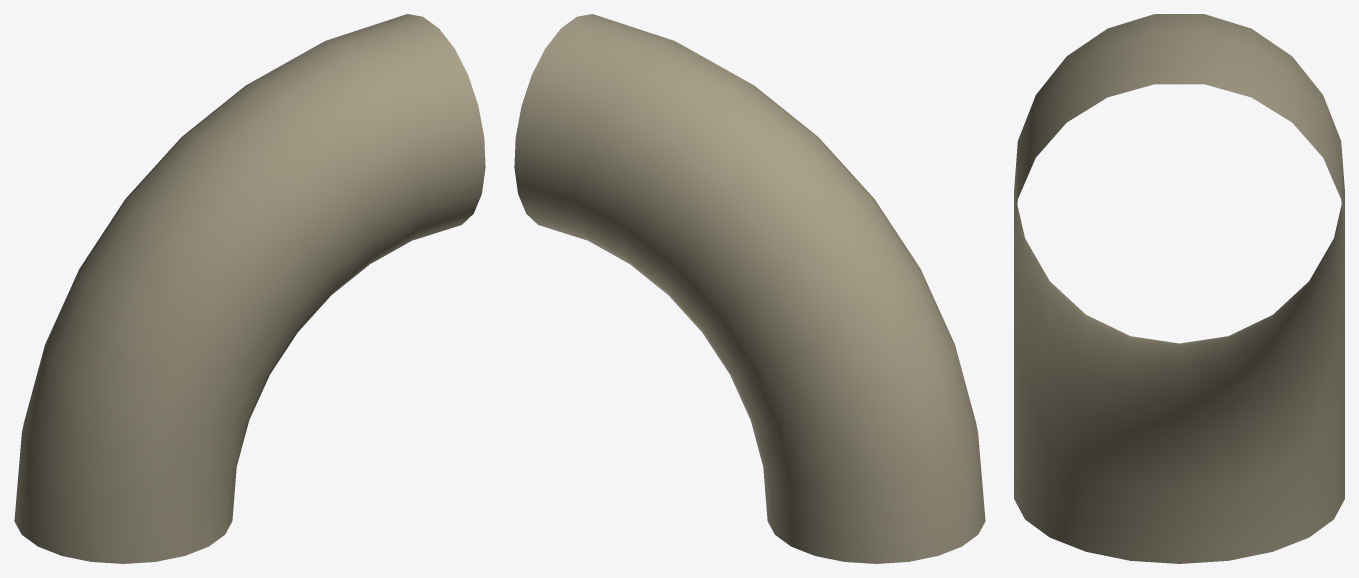
File: SM_ventilation_props_25.glb
3 views of the same model, side by side, from view 1: azimuth 30°, elevation 25°; view 2: azimuth 150°, elevation 25°; view 3: azimuth 270°, elevation 25° (orthographic). The views are drawn at different scales.
Parts seen in each view (by area): view 1: SM_ventilation_props_25; view 2: SM_ventilation_props_25; view 3: SM_ventilation_props_25.
Part boxes in pixels (x1=…): SM_ventilation_props_25: x1=14, y1=14, x2=485, y2=563; SM_ventilation_props_25: x1=514, y1=14, x2=985, y2=563; SM_ventilation_props_25: x1=1014, y1=14, x2=1344, y2=563.
Bounding box in the file's own units: 1.7 × 1.7 × 0.7978.
